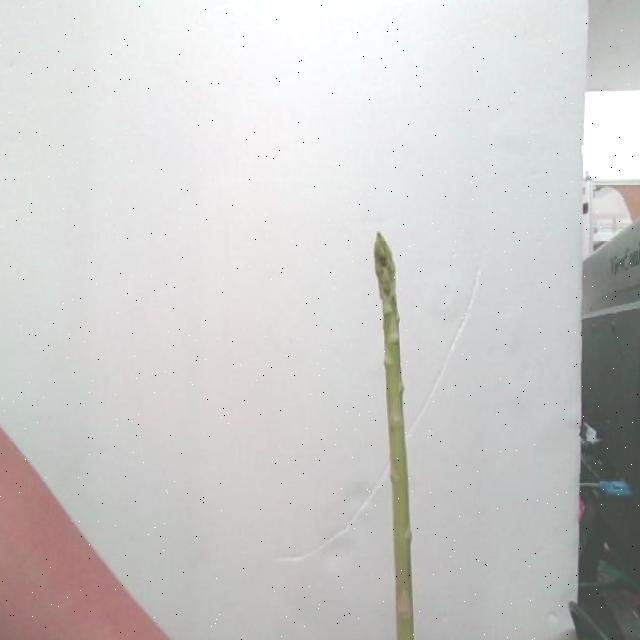aspargus: (375, 234, 419, 640)
